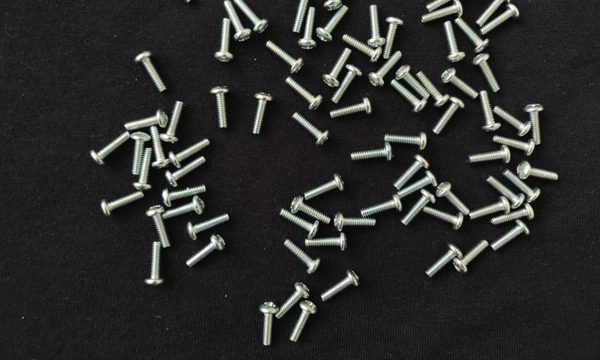shortscrew: (135, 50, 168, 94), (90, 132, 132, 166), (502, 170, 542, 204), (186, 234, 226, 268), (264, 41, 305, 74), (425, 244, 463, 279), (285, 77, 324, 111), (416, 71, 450, 110), (283, 240, 322, 274), (480, 4, 521, 36), (394, 155, 430, 191), (368, 51, 403, 88), (486, 177, 525, 210), (321, 269, 361, 301), (332, 65, 363, 106), (164, 157, 206, 187), (323, 47, 353, 89), (275, 283, 310, 319), (391, 80, 428, 114), (293, 113, 331, 146), (316, 5, 349, 43), (491, 221, 531, 252), (290, 300, 318, 344), (235, 0, 270, 35), (456, 19, 491, 54), (401, 191, 436, 226), (396, 64, 430, 100), (454, 240, 490, 274), (224, 0, 252, 43), (280, 209, 320, 239), (100, 192, 146, 218), (187, 214, 230, 241), (169, 139, 209, 168), (291, 196, 331, 225), (436, 182, 470, 216), (494, 107, 532, 137), (343, 35, 383, 63), (304, 174, 345, 201), (473, 54, 501, 93), (442, 68, 478, 98), (147, 206, 172, 249), (163, 196, 206, 221), (360, 194, 402, 219), (399, 170, 436, 198), (160, 101, 184, 144), (162, 185, 205, 208), (330, 97, 373, 120), (444, 21, 467, 63), (470, 195, 510, 219), (124, 110, 169, 131), (476, 0, 511, 27), (490, 203, 535, 224), (479, 91, 502, 132), (423, 207, 464, 230), (422, 0, 464, 22), (493, 135, 536, 156), (145, 242, 165, 287), (517, 161, 559, 182), (214, 19, 234, 63), (383, 16, 403, 59), (135, 147, 154, 192), (131, 133, 151, 175), (252, 93, 272, 135), (151, 126, 170, 170), (305, 233, 349, 252), (260, 303, 279, 347), (293, 0, 316, 34), (211, 87, 230, 128), (525, 104, 544, 145), (335, 213, 376, 232), (299, 8, 317, 51), (368, 5, 386, 48), (385, 133, 428, 151), (351, 143, 391, 162), (469, 146, 511, 164), (427, 0, 467, 11), (323, 0, 343, 12), (157, 0, 193, 3)
